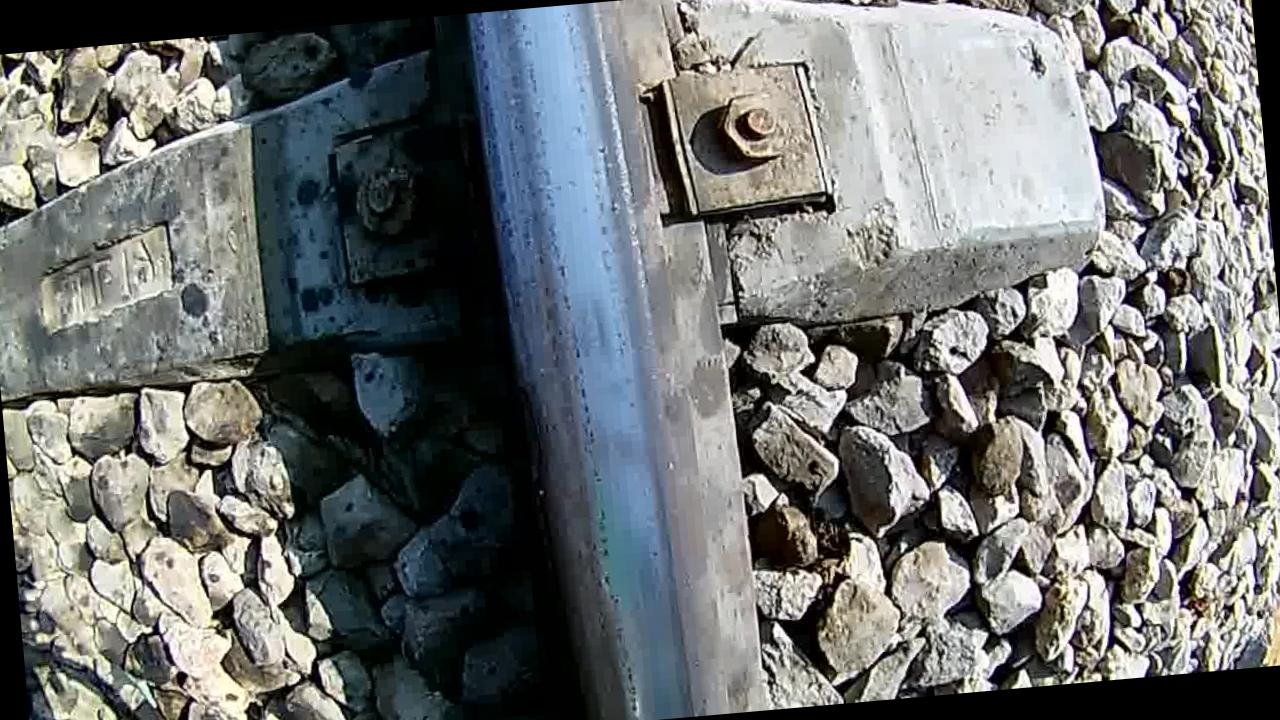clip_missing: (475, 0, 690, 720)
